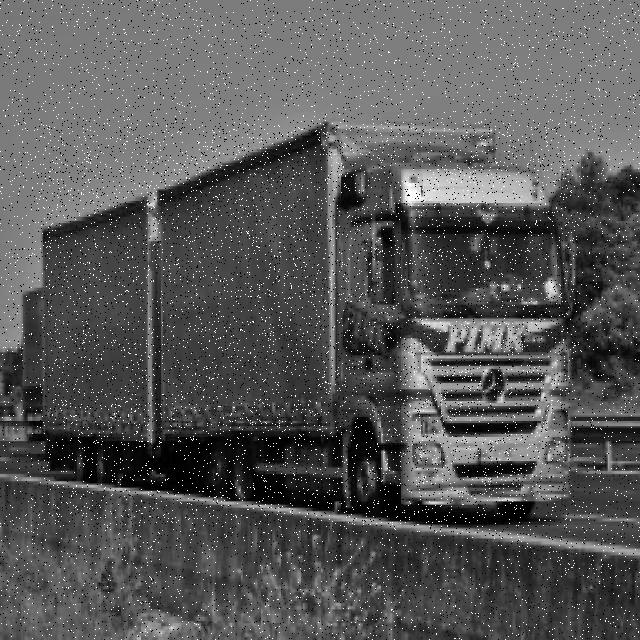Box Truck: (41, 122, 576, 527)
